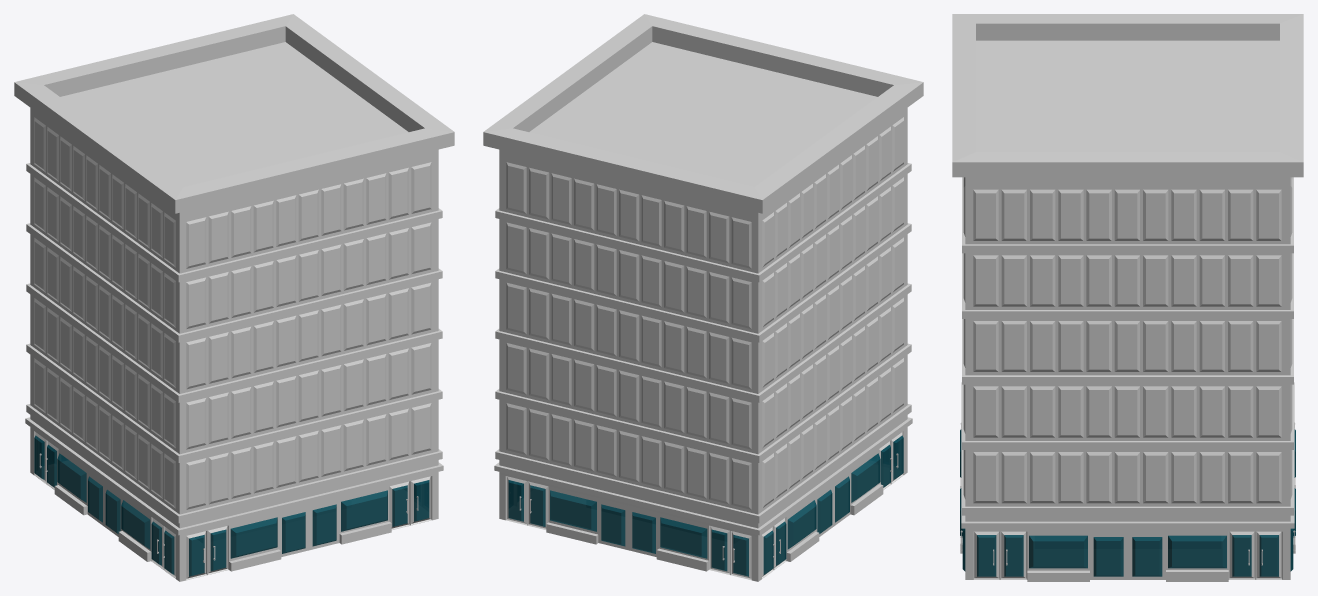
Rendered from building_office_four_sided_02_small.fbx.
The picture shows the model from 3 angles, left to right: view 1: azimuth 30°, elevation 25°; view 2: azimuth 150°, elevation 25°; view 3: azimuth 270°, elevation 25°; orthographic projection. The views are drawn at different scales.
Visible parts, largest first — view 1: building_office_four_sided_02_small, building_office_four_sided_02_base_glass.001; view 2: building_office_four_sided_02_small, building_office_four_sided_02_base_glass.001; view 3: building_office_four_sided_02_small, building_office_four_sided_02_base_glass.001.
Part boxes in pixels (<box>): building_office_four_sided_02_small: <box>14,14,454,581</box>; building_office_four_sided_02_base_glass.001: <box>34,435,429,576</box>; building_office_four_sided_02_small: <box>483,14,923,581</box>; building_office_four_sided_02_base_glass.001: <box>508,435,903,576</box>; building_office_four_sided_02_small: <box>952,14,1303,581</box>; building_office_four_sided_02_base_glass.001: <box>960,429,1295,576</box>.
Bounding box in the file's own units: 1941 × 2583 × 1941.
